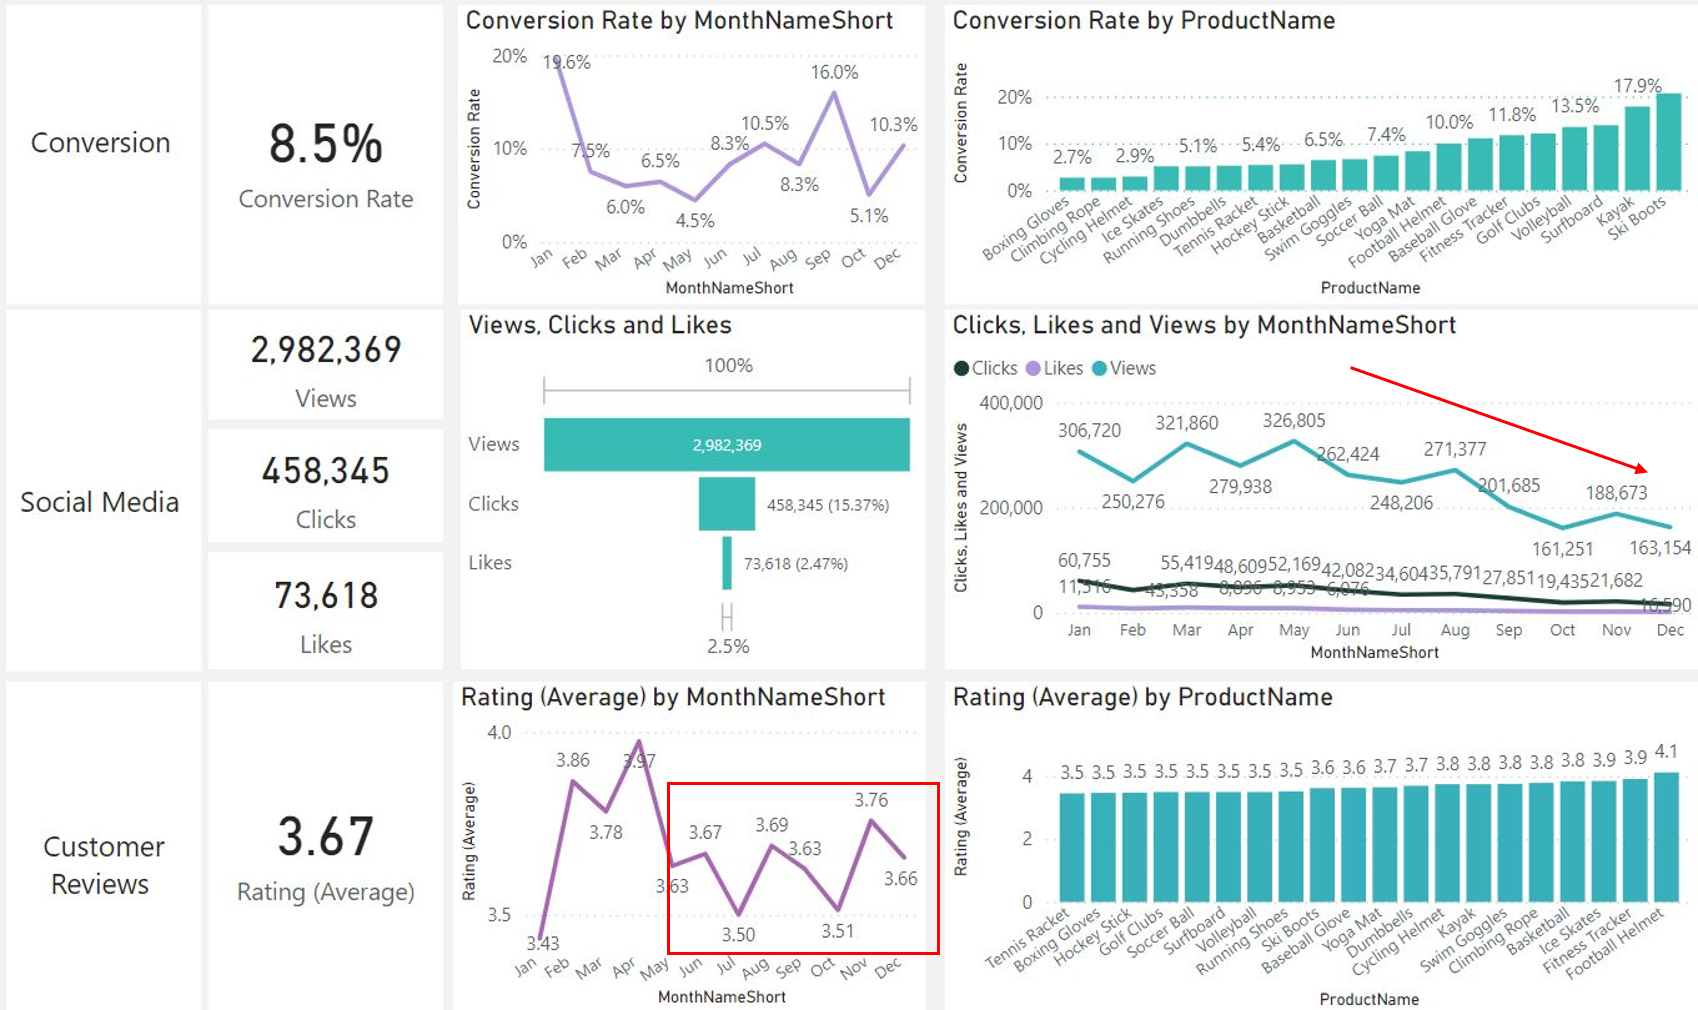

The page's visual inventory and layout, read from the dashboard file:
{"tool":"powerbi","page":{"name":"Overview","canvas":[1280,720],"ordinal":0},"visuals":[{"type":"textbox","box":[0,0,1280.3,52.5],"z":0},{"type":"slicer","fields":{"Values":["dim_products.ProductName"]},"box":[0,57.8,162.3,654.1],"z":1000},{"type":"textbox","box":[168.9,57.4,127.9,196.7],"z":2000},{"type":"textbox","box":[168.9,257.4,127.9,237.7],"z":3000},{"type":"textbox","box":[168.9,501.6,127.9,219.7],"z":4000},{"type":"card","fields":{"Values":["Calculations.Conversion Rate"]},"box":[301.6,57.4,154.1,196.7],"z":5000},{"type":"card","fields":{"Values":["Calculations.Views"]},"box":[301.6,257.4,154.1,72.1],"z":6000},{"type":"card","fields":{"Values":["Calculations.Clicks"]},"box":[301.6,336.7,154.1,73.8],"z":7000},{"type":"card","fields":{"Values":["Calculations.Likes"]},"box":[301.6,417,154.1,77],"z":8000},{"type":"card","fields":{"Values":["Calculations.Rating (Average)"]},"box":[301.6,501.6,154.1,218],"z":9000},{"type":"slicer","fields":{"Values":["Calendar.Year"]},"box":[304.9,0,259,52.5],"z":10000},{"type":"slicer","fields":{"Values":["Calendar.MonthNameShort"]},"box":[586.9,0,657.4,52.5],"z":11000},{"type":"lineChart","fields":{"Y":["Calculations.Conversion Rate"],"Category":["Calendar.MonthNameShort"]},"box":[465.6,57.4,306.6,196.7],"z":12000},{"type":"clusteredColumnChart","fields":{"Y":["Calculations.Conversion Rate"],"Category":["dim_products.ProductName"]},"box":[785.2,57.4,496.7,196.7],"z":13000},{"type":"lineChart","fields":{"Category":["Calendar.MonthNameShort"],"Y":["Calculations.Clicks","Calculations.Likes","Calculations.Views"]},"box":[785.2,257.4,495.1,236.1],"z":14000},{"type":"funnel","fields":{"Y":["Calculations.Views","Calculations.Clicks","Calculations.Likes"]},"box":[467.2,257.4,304.9,236.1],"z":15000},{"type":"lineChart","fields":{"Y":["Calculations.Rating (Average)"],"Category":["Calendar.MonthNameShort"]},"box":[462.3,501.6,309.8,218],"z":16000},{"type":"clusteredColumnChart","fields":{"Y":["Calculations.Rating (Average)"],"Category":["dim_products.ProductName"]},"box":[785.2,501.6,495.1,219.7],"z":17000}]}

Visuals, with their boxes on the page's 1280x720 design canvas (x1, y1, x2, y2). These are canvas units, not pixel positions in the 1698x1010 screenshot, which may show the page scaled, cropped or inside an application window:
textbox: 0, 0, 1280, 52
slicer - dim_products.ProductName: 0, 58, 162, 712
textbox: 169, 57, 297, 254
textbox: 169, 257, 297, 495
textbox: 169, 502, 297, 721
card - Calculations.Conversion Rate: 302, 57, 456, 254
card - Calculations.Views: 302, 257, 456, 330
card - Calculations.Clicks: 302, 337, 456, 410
card - Calculations.Likes: 302, 417, 456, 494
card - Calculations.Rating (Average): 302, 502, 456, 720
slicer - Calendar.Year: 305, 0, 564, 52
slicer - Calendar.MonthNameShort: 587, 0, 1244, 52
lineChart - Calculations.Conversion Rate x Calendar.MonthNameShort: 466, 57, 772, 254
clusteredColumnChart - Calculations.Conversion Rate x dim_products.ProductName: 785, 57, 1282, 254
lineChart - Calendar.MonthNameShort x Calculations.Clicks: 785, 257, 1280, 494
funnel - Calculations.Views x Calculations.Clicks: 467, 257, 772, 494
lineChart - Calculations.Rating (Average) x Calendar.MonthNameShort: 462, 502, 772, 720
clusteredColumnChart - Calculations.Rating (Average) x dim_products.ProductName: 785, 502, 1280, 721
